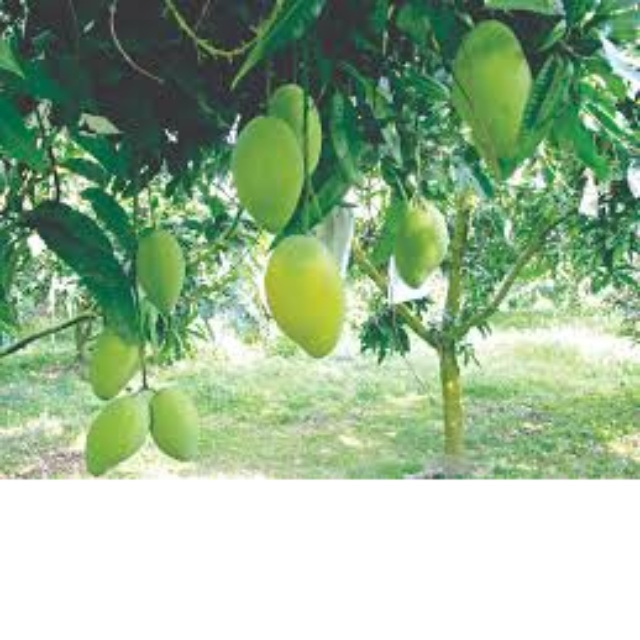thanh_long: (262, 234, 366, 370), (446, 12, 536, 169), (227, 108, 309, 236), (390, 190, 458, 296), (151, 379, 218, 478), (83, 321, 164, 400), (136, 230, 195, 319)
